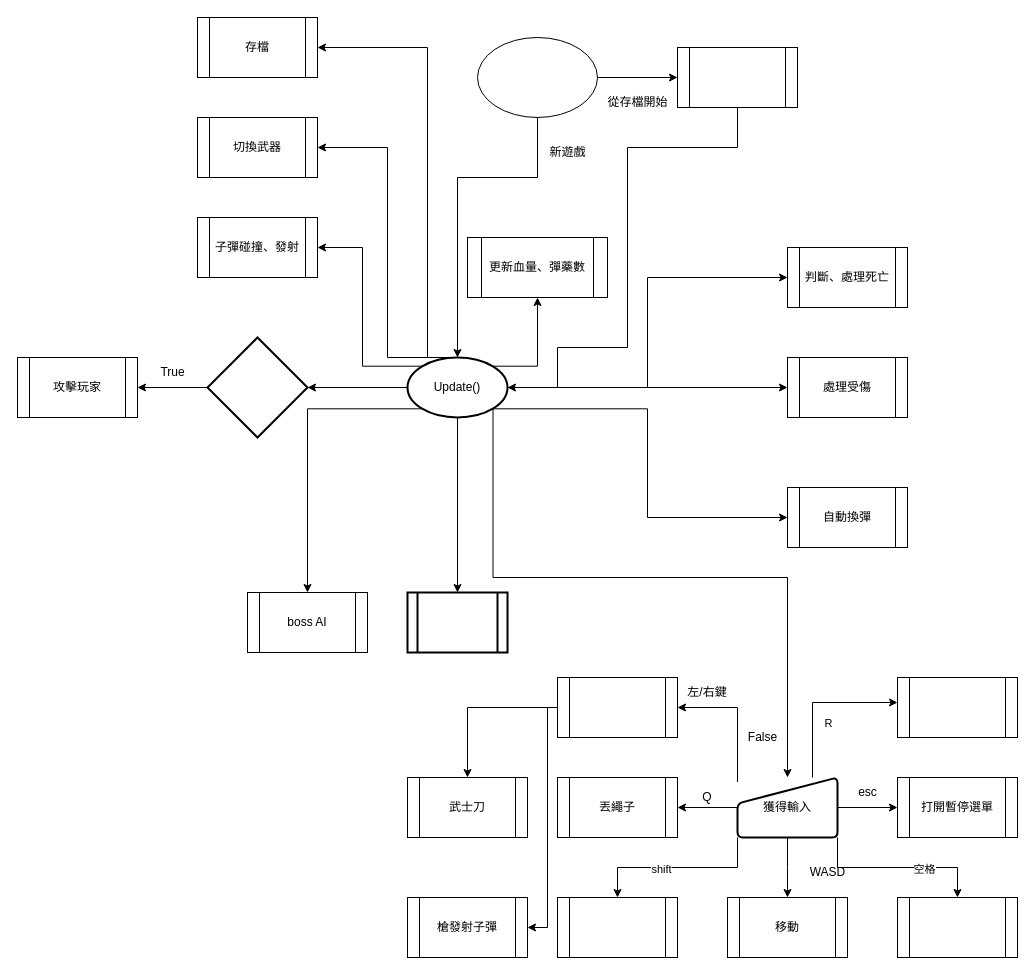
This 1035x975 diagram has some shape labels left out. The shapes that lost their labels are listed below. From the top down, each one's centre as x and y in pixels, then its label:
(x=537, y=77): 顯示主選單
(x=737, y=77): 讀存檔
(x=257, y=387): 敵人離玩家夠近
(x=457, y=622): 切換關卡/結局
(x=617, y=707): 攻擊/格檔
(x=957, y=707): 換彈
(x=617, y=927): 下鏟
(x=957, y=927): 跳躍
